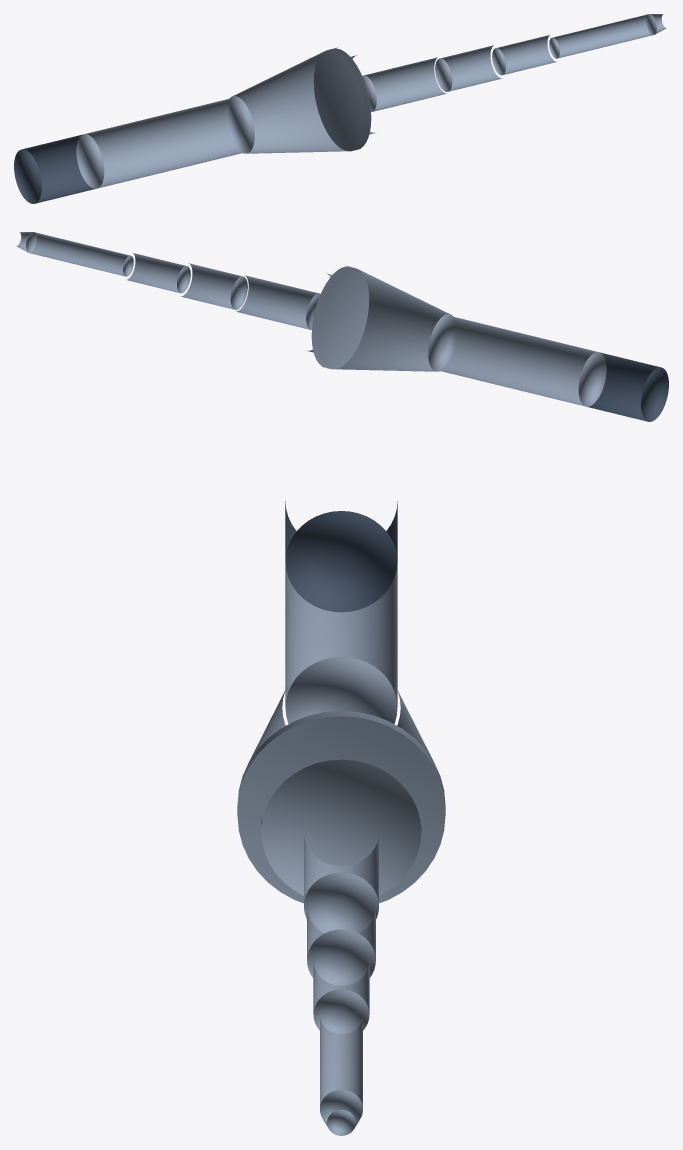
File: modelo.glb
3 views of the same model, one above another, from view 1: azimuth 30°, elevation 25°; view 2: azimuth 150°, elevation 25°; view 3: azimuth 270°, elevation 25° (orthographic). The views are drawn at different scales.
Size of the model in its own units: 46 by 6.5 by 6.5.
